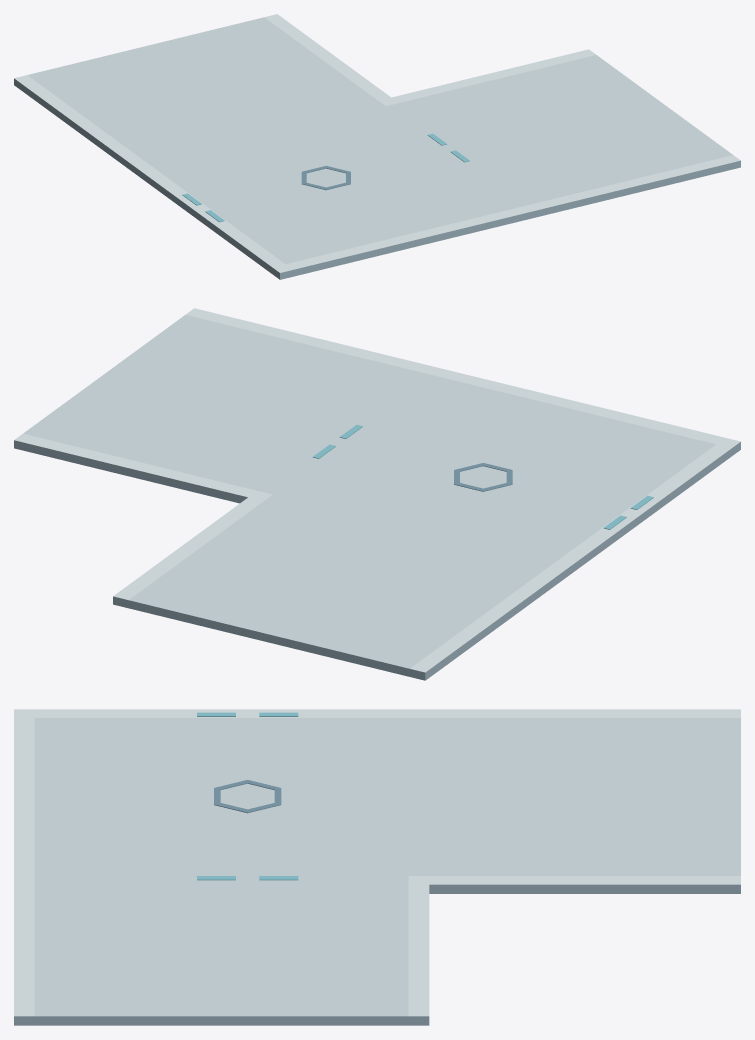
The model's file is campus_walk_corner_v01.glb.
The picture shows the model from 3 angles, top to bottom: view 1: azimuth 30°, elevation 25°; view 2: azimuth 150°, elevation 25°; view 3: azimuth 270°, elevation 25°; orthographic projection. The views are drawn at different scales.
Visible parts, largest first — view 1: campus_walk_corner; view 2: campus_walk_corner; view 3: campus_walk_corner.
Boxes of the visible parts, x1,y1,x2,y2 form: campus_walk_corner: [14, 14, 740, 279]; campus_walk_corner: [14, 308, 740, 680]; campus_walk_corner: [14, 709, 740, 1025].
Size of the model in its own units: 5.6 by 0.087 by 5.6.
1 material, 1 textured.
